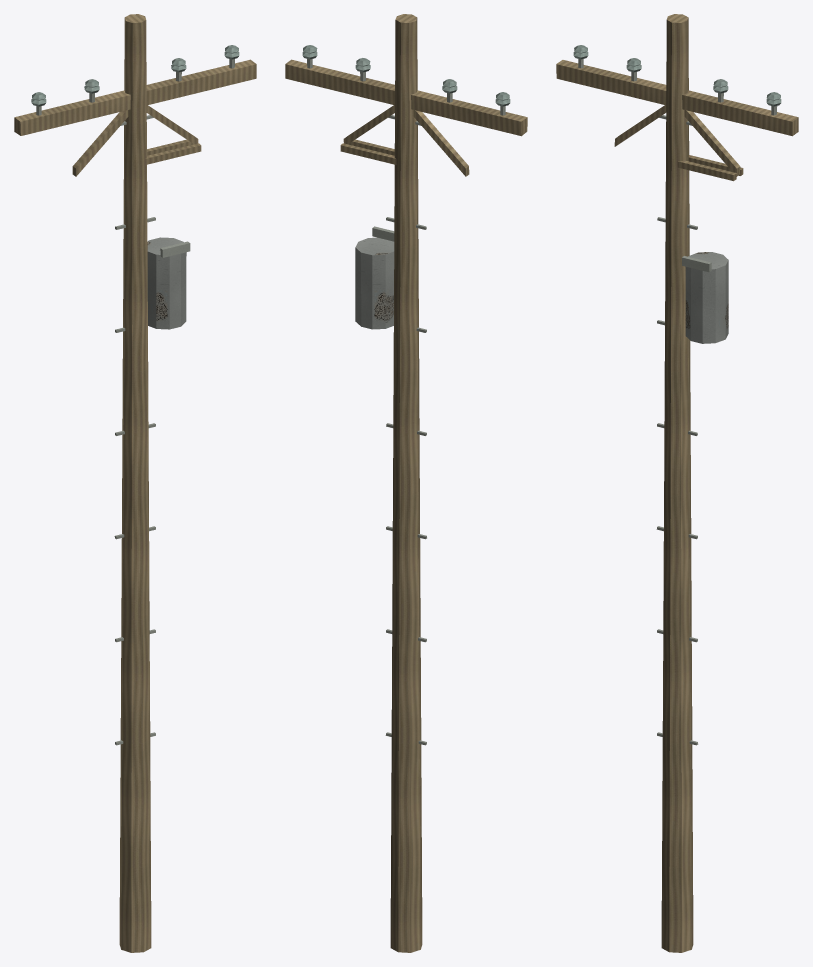
The model's file is utilpole_v3.glb.
3 renders of one model, left to right at view 1: azimuth 30°, elevation 25°; view 2: azimuth 150°, elevation 25°; view 3: azimuth 330°, elevation 25°, orthographic.
Visible parts, largest first — view 1: Variant_utilpole_3; view 2: Variant_utilpole_3; view 3: Variant_utilpole_3.
Boxes of the visible parts, x1,y1,x2,y2 form: Variant_utilpole_3: [14, 14, 256, 952]; Variant_utilpole_3: [285, 14, 527, 952]; Variant_utilpole_3: [556, 14, 798, 952].
Bounding box in the file's own units: 2.4 × 9 × 0.3807.
4 materials, 4 textured.
